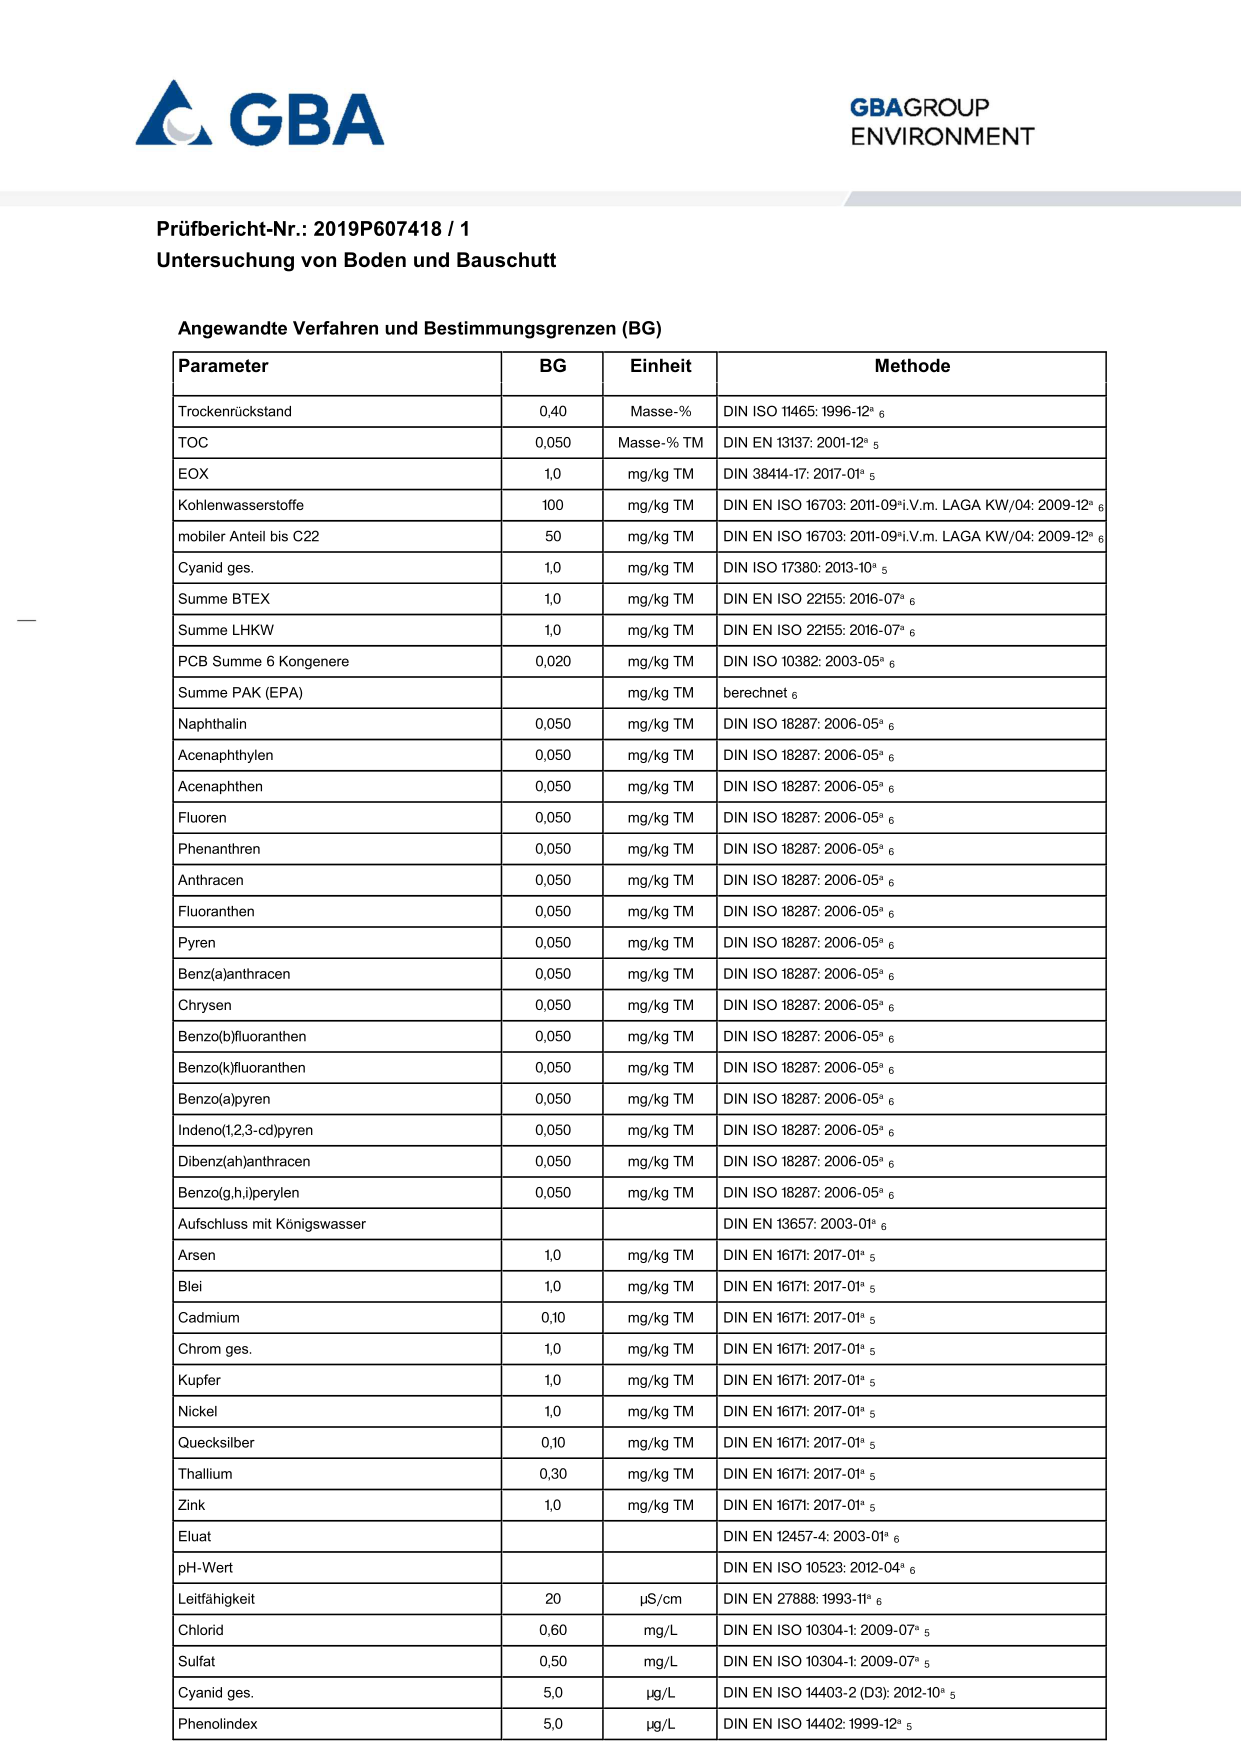table: (158, 341, 1119, 1755)
